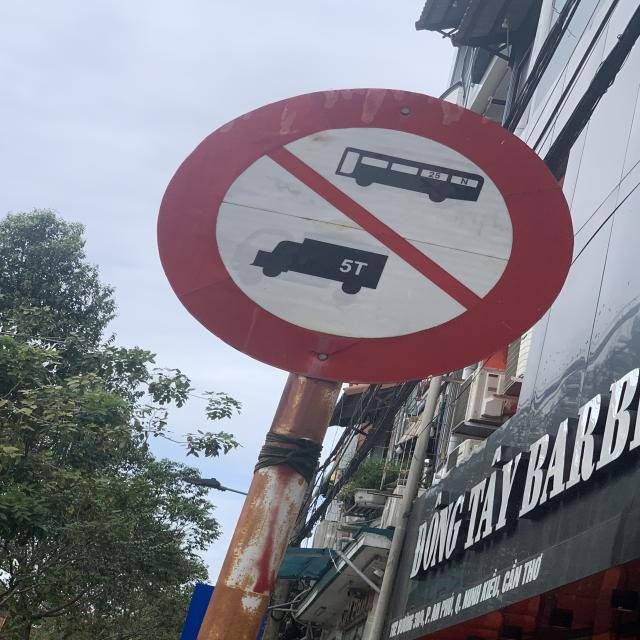Cam_XeTai_XeKhach: (157, 85, 572, 383)
